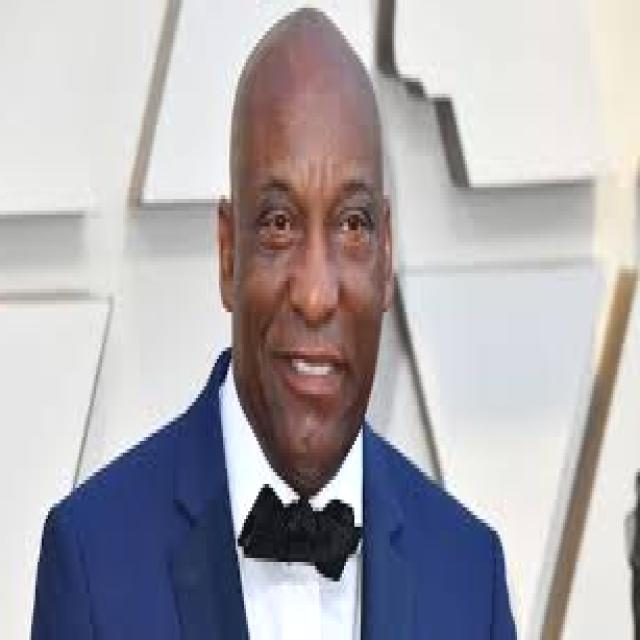normal_face: (220, 58, 396, 486)
